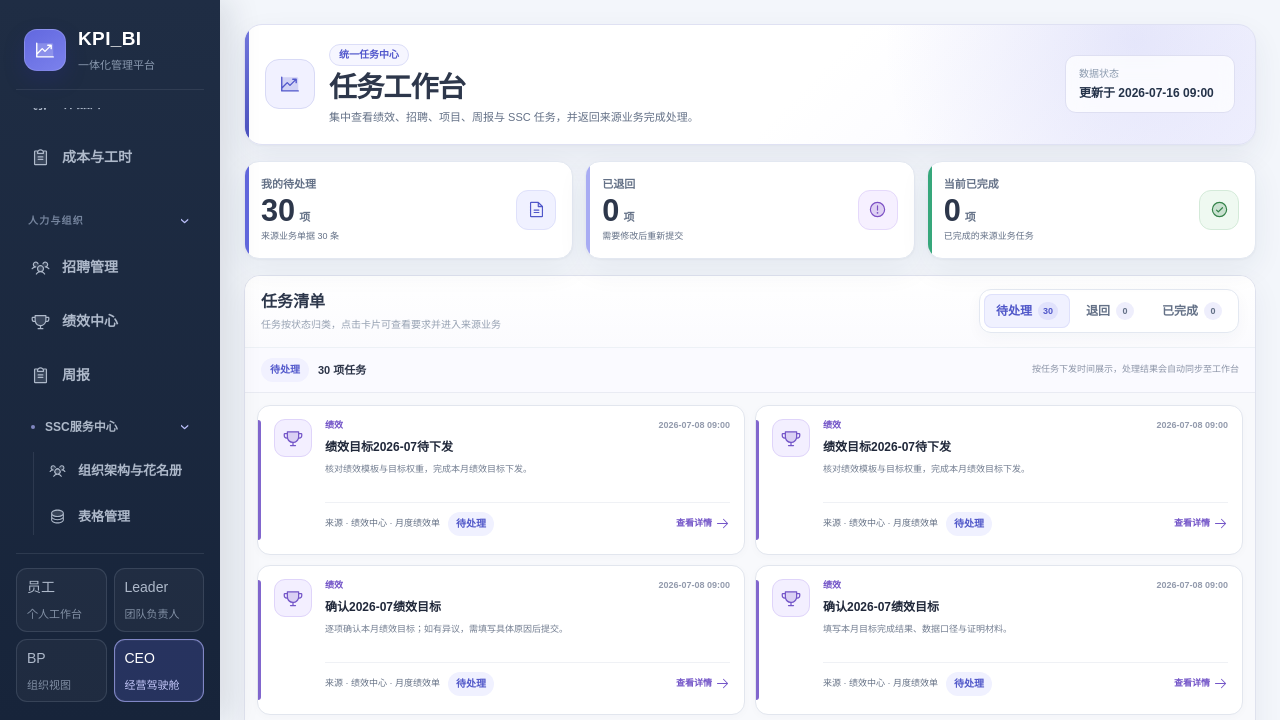
performance action column › shows all role-related actions, disables unavailable ones, and puts details last
(page scrolled)
Click the button "绩效中心". click: (110, 322)
box: [16,296,204,346]
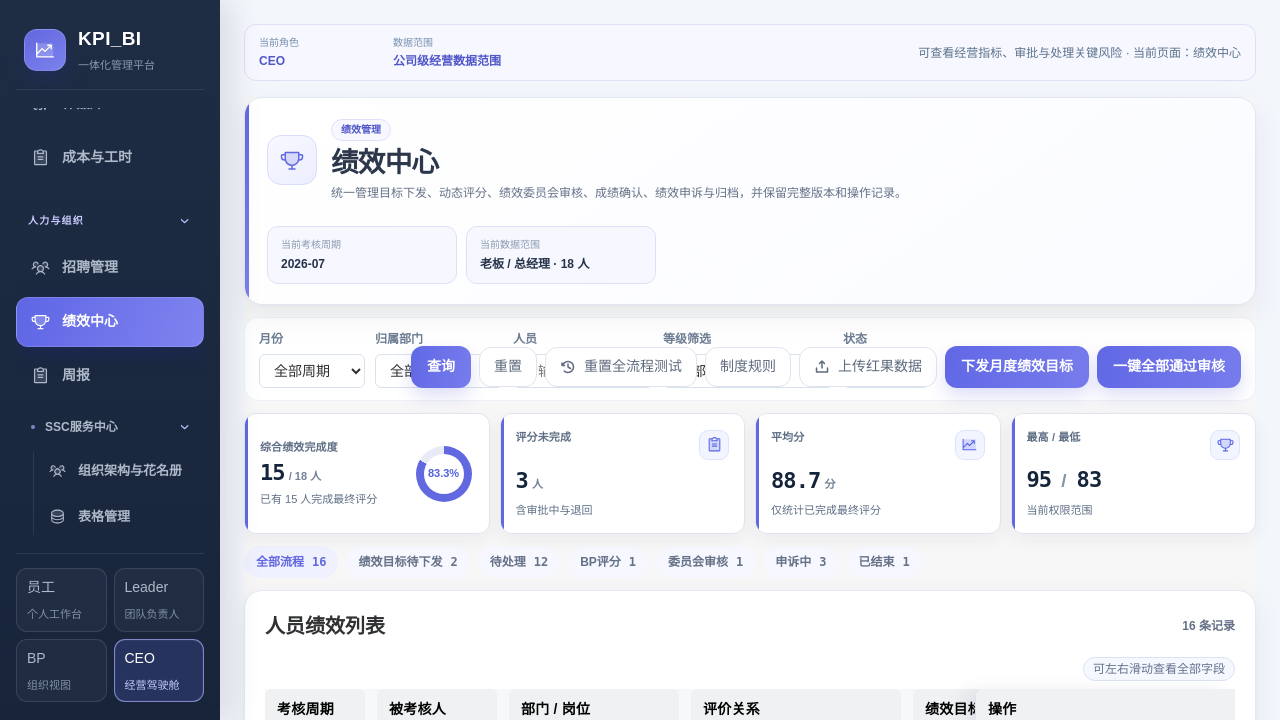
Click the button named "Leader团队负责人". click: (159, 600)
box: [114,568,204,632]
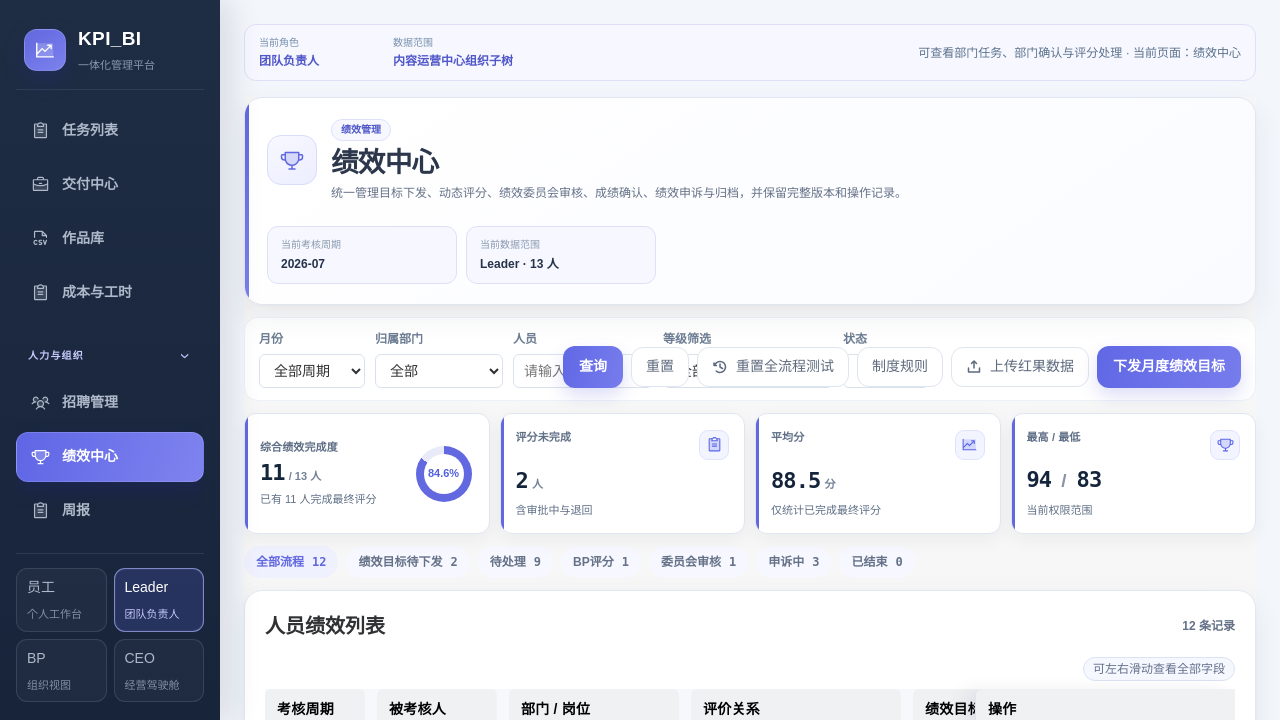
Click the button named "BP组织视图". click: (61, 670)
box: [16,638,106,702]
(page scrolled)
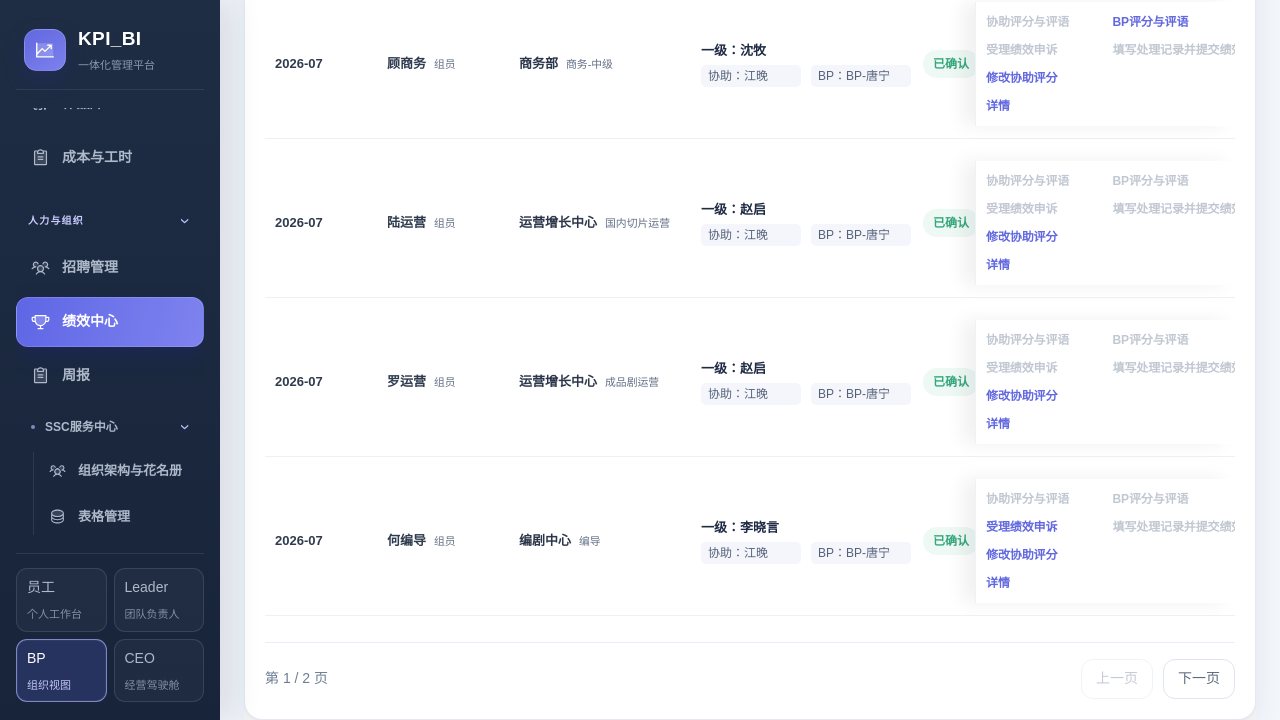
Expected: the button "详情" below "89.4" is shown, [986,95,1225,117]
Expected: the button "详情" below "83.4" is shown, [986,254,1225,276]
Expected: the button "详情" below "85" is shown, [986,413,1225,435]
